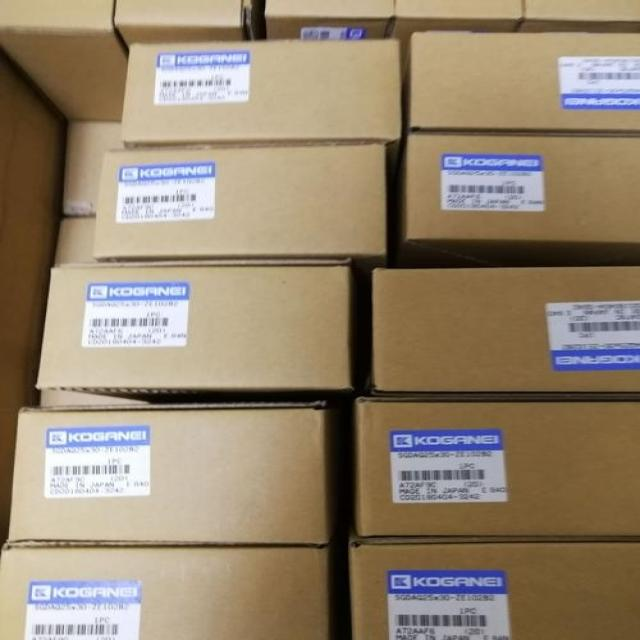box: (6, 400, 337, 545), (37, 257, 355, 394), (90, 143, 388, 281), (355, 397, 640, 537), (122, 38, 404, 171), (370, 265, 640, 394), (393, 130, 640, 269), (0, 542, 330, 640), (348, 536, 640, 640), (402, 31, 640, 131), (0, 0, 128, 121), (390, 0, 522, 51), (115, 0, 265, 44), (63, 120, 122, 216), (265, 0, 398, 40), (520, 0, 640, 33), (52, 216, 93, 263)
